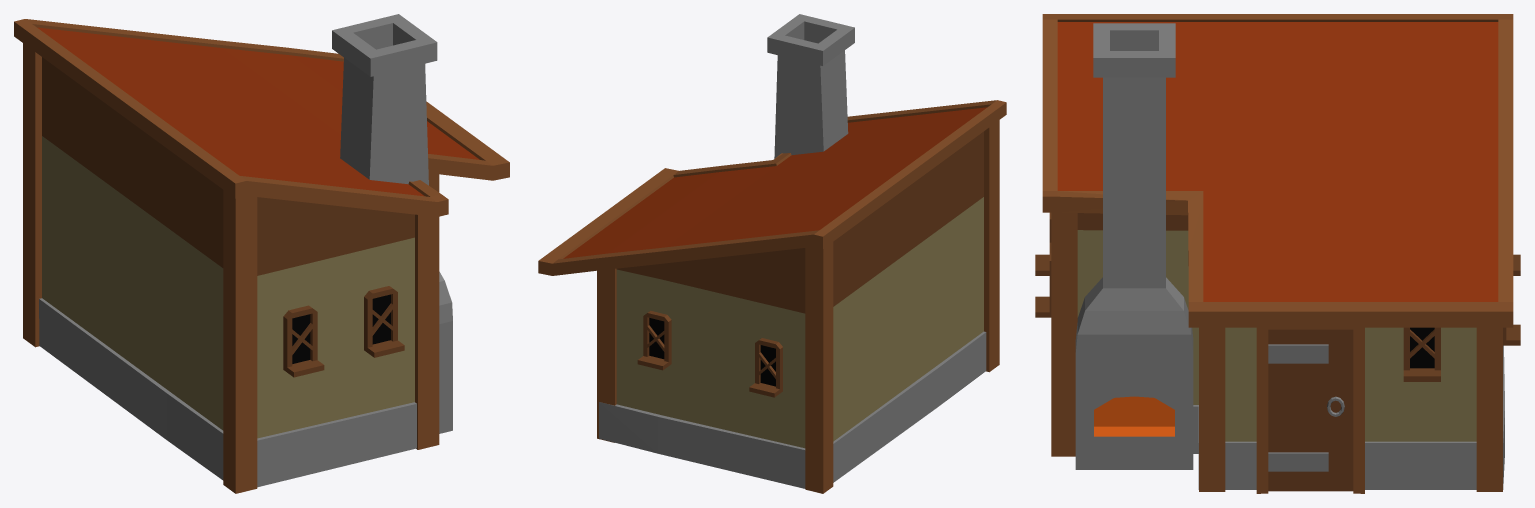
The model's file is blacksmith.dae.
The picture shows the model from 3 angles, left to right: view 1: azimuth 30°, elevation 25°; view 2: azimuth 150°, elevation 25°; view 3: azimuth 270°, elevation 25°; orthographic projection. The views are drawn at different scales.
Parts seen in each view (by area): view 1: blacksmith, plank, furnace, window; view 2: blacksmith, plank, furnace, window; view 3: blacksmith, furnace, door, plank, window.
Boxes of the visible parts, x1,y1,x2,y2 form: blacksmith: [14, 19, 509, 487]; plank: [23, 43, 439, 493]; furnace: [332, 14, 452, 433]; window: [283, 286, 404, 377]; blacksmith: [538, 100, 1006, 488]; plank: [597, 120, 999, 493]; furnace: [767, 14, 854, 158]; window: [637, 310, 782, 397]; blacksmith: [1042, 14, 1513, 489]; furnace: [1075, 23, 1193, 469]; door: [1256, 327, 1364, 493]; plank: [1051, 212, 1502, 491]; window: [1035, 212, 1520, 381].
Bounding box in the file's own units: 7.77 × 8.96 × 8.32.
